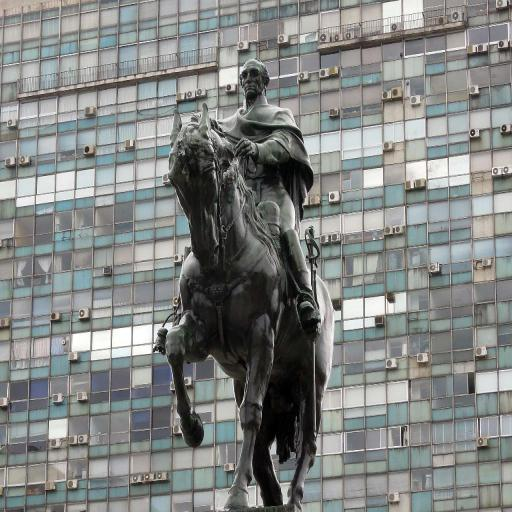horse: (166, 101, 336, 510)
